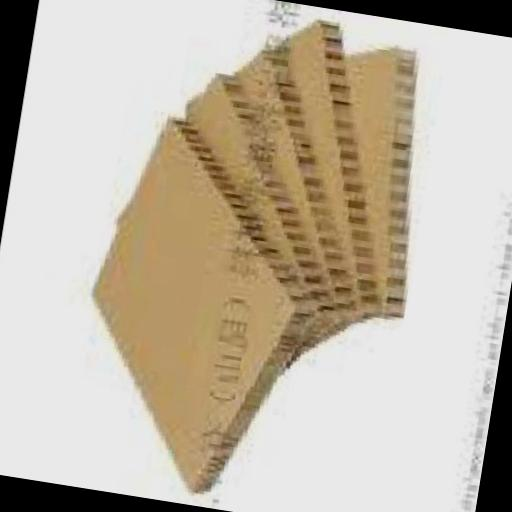cardboard: (57, 108, 338, 503), (90, 56, 362, 394), (186, 39, 384, 373), (234, 11, 418, 333), (307, 38, 444, 318)
